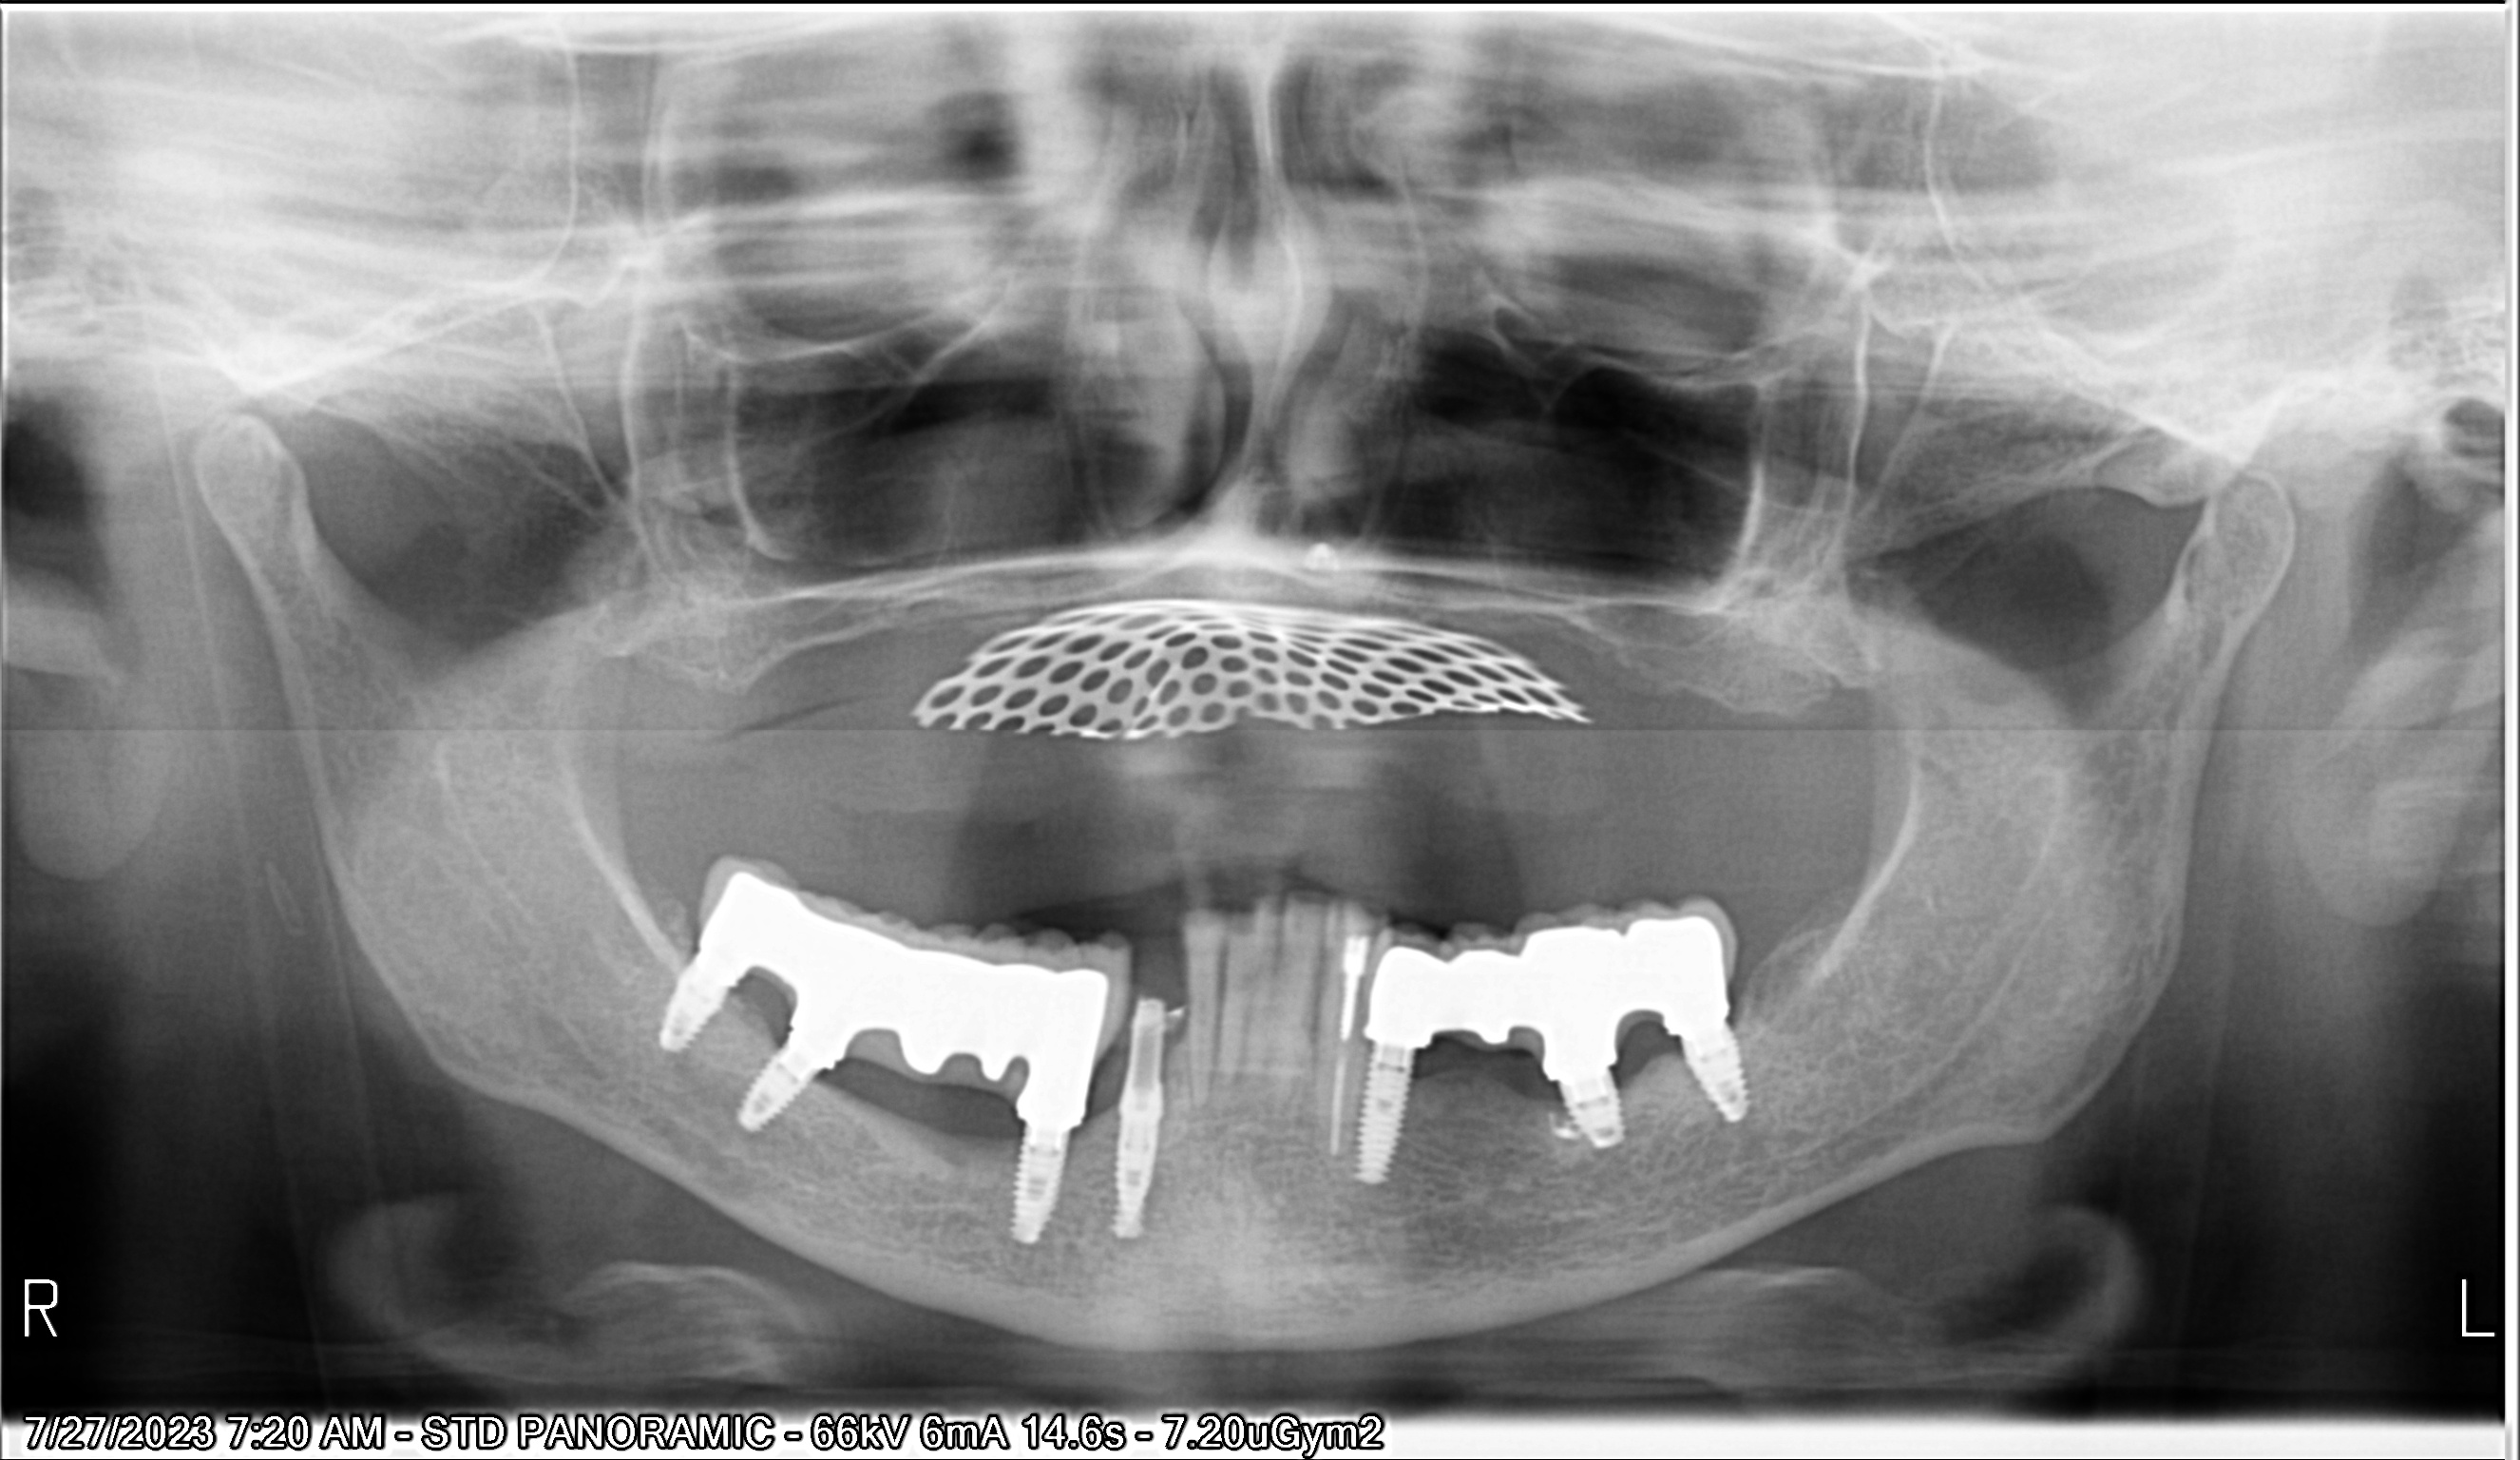BON: (1098, 1034, 1120, 1133), (1530, 1085, 1567, 1138), (1626, 1043, 1652, 1116), (742, 982, 769, 1029), (1179, 975, 1198, 1043), (1219, 965, 1235, 1032), (1315, 968, 1322, 1052), (1270, 961, 1275, 1034)
END: (1339, 989, 1356, 1173)
IMP: (1124, 1005, 1167, 1255), (1016, 1104, 1073, 1260), (1685, 1045, 1765, 1147), (665, 932, 719, 1076), (768, 1008, 813, 1158), (1370, 1045, 1407, 1201), (1563, 1081, 1631, 1152)
OBT: (1348, 914, 1370, 975)
PRR: (705, 866, 1118, 1085), (1396, 951, 1744, 1022)
SRD: (926, 608, 1577, 766)
